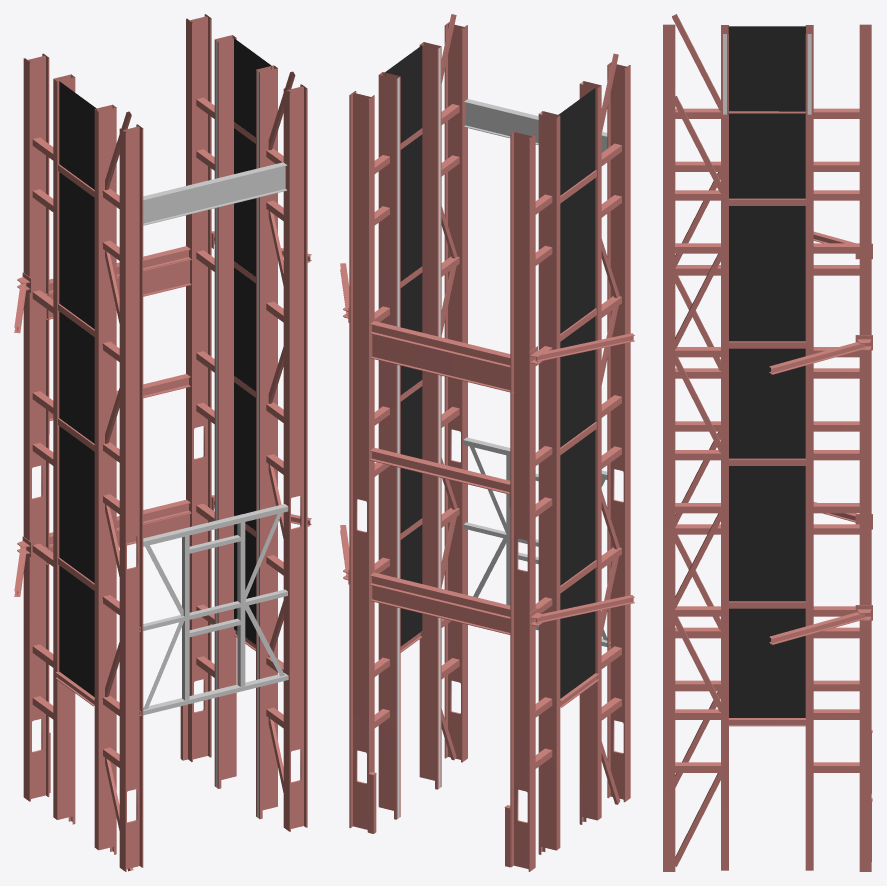
File: SM_H_Building_Tide_MainShaft_06b_ATLAS.fbx
3 renders of one model, left to right at view 1: azimuth 30°, elevation 25°; view 2: azimuth 150°, elevation 25°; view 3: azimuth 270°, elevation 25°, orthographic. The views are drawn at different scales.
Parts seen in each view (by area): view 1: SM_H_Building_Tide_MainShaft_06b_ATLAS; view 2: SM_H_Building_Tide_MainShaft_06b_ATLAS; view 3: SM_H_Building_Tide_MainShaft_06b_ATLAS.
Boxes of the visible parts, x1,y1,x2,y2 form: SM_H_Building_Tide_MainShaft_06b_ATLAS: (14,14,311,871); SM_H_Building_Tide_MainShaft_06b_ATLAS: (340,14,634,871); SM_H_Building_Tide_MainShaft_06b_ATLAS: (663,14,872,871).
Size of the model in its own units: 1570 by 938 by 3842.
